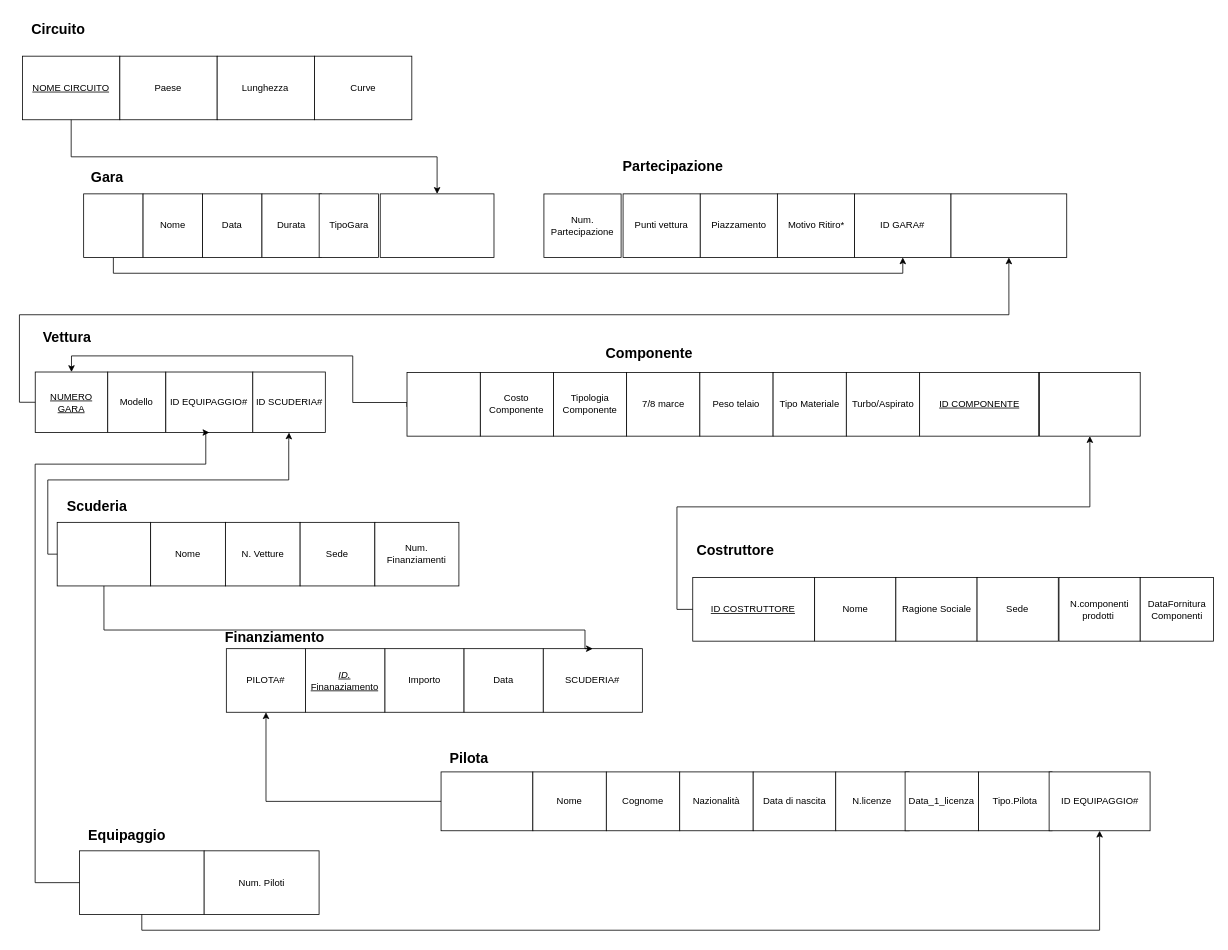
This 1228x950 diagram has some shape labels left out. The box of each missing label's shape, as (x1, y1, x2, y2) in pixels:
ID CIRCUITO#: (379, 193, 494, 257)
ID COSTRUTTORE#: (1039, 372, 1140, 436)
ID EQUIPAGGIO: (79, 850, 204, 914)
ID GARA: (83, 193, 143, 257)
ID PILOTA: (440, 771, 533, 831)
ID SCUDERIA: (56, 522, 151, 586)
ID Vettura#: (406, 372, 480, 436)
NUMERO GARA ISCRITTA#: (950, 193, 1067, 257)
